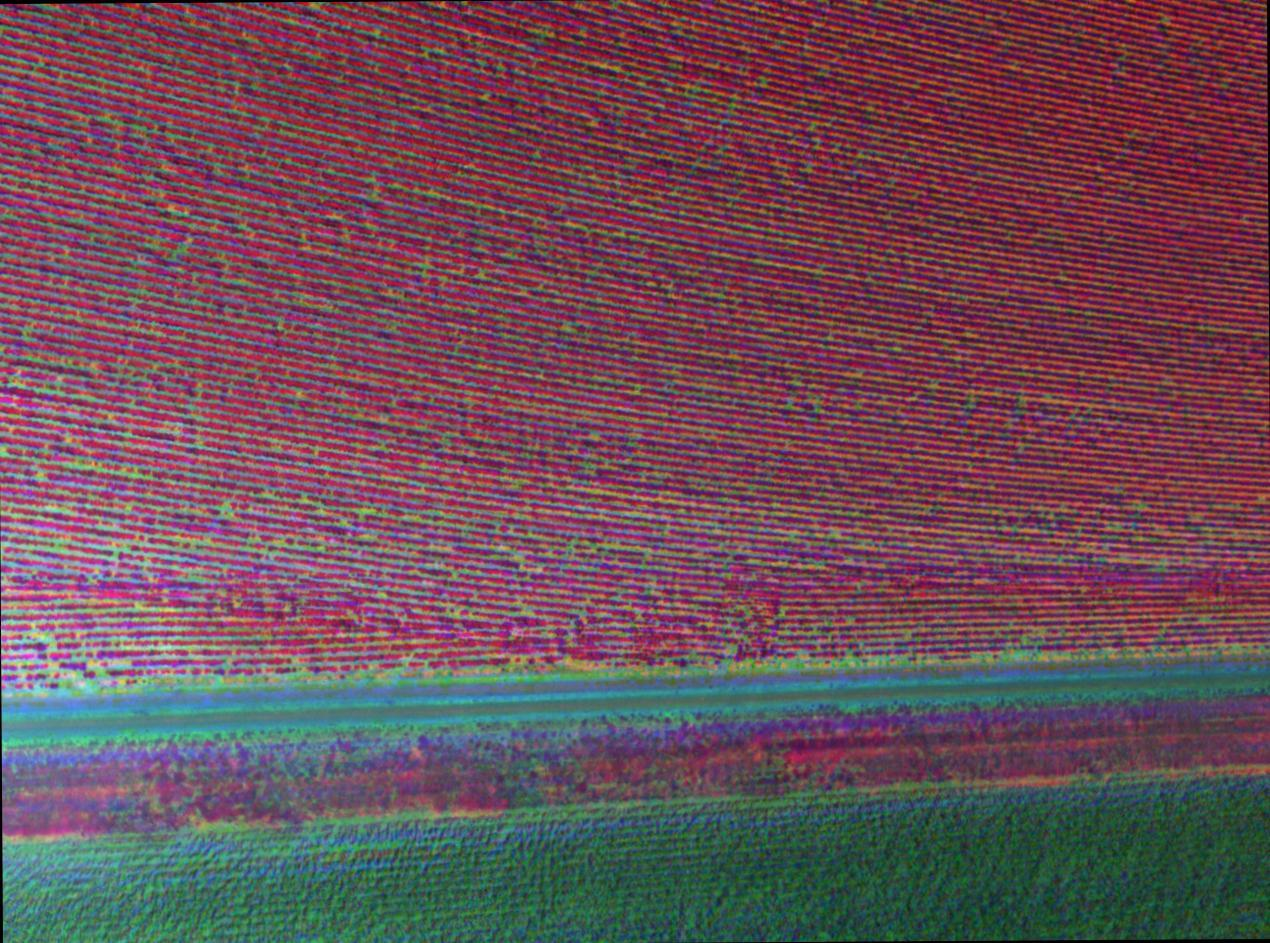dc: (359, 510, 365, 515), (45, 635, 50, 641), (99, 672, 104, 677), (925, 508, 929, 513), (646, 550, 650, 555), (455, 607, 459, 612), (50, 668, 55, 672), (226, 655, 230, 659), (1117, 525, 1120, 529), (635, 391, 638, 394)
